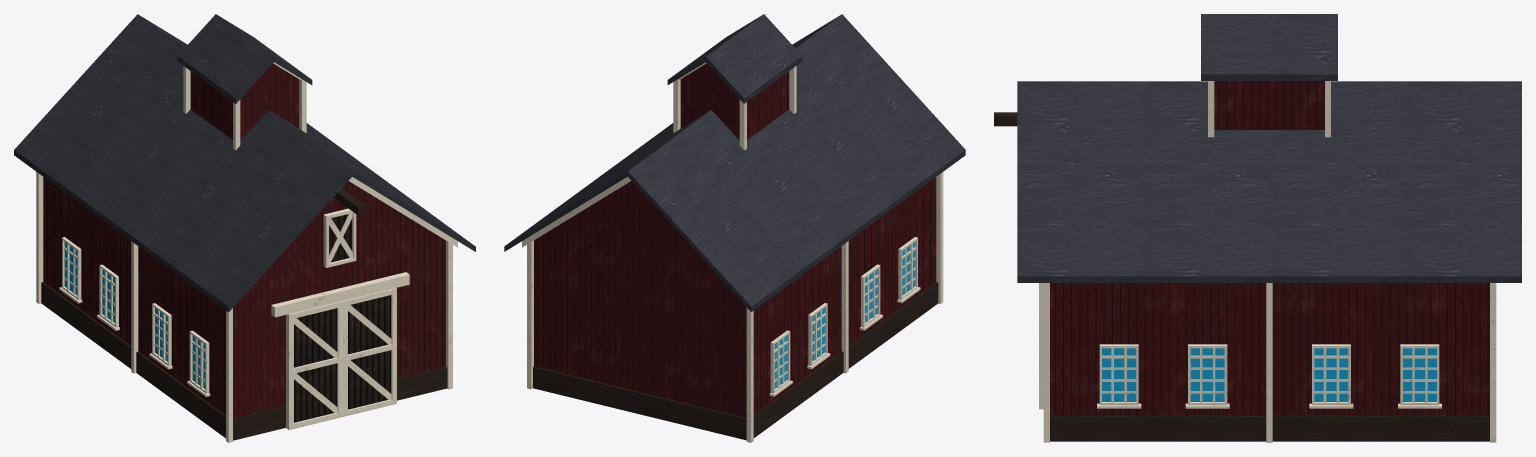
File: Barn_01.fbx
3 renders of one model, left to right at view 1: azimuth 30°, elevation 25°; view 2: azimuth 150°, elevation 25°; view 3: azimuth 270°, elevation 25°, orthographic. The views are drawn at different scales.
Parts seen in each view (by area): view 1: Plane.023, Plane.034, Plane.036, Plane.035, Plane.030, Plane.024, Plane.033; view 2: Plane.023, Plane.035, Plane.030, Plane.024; view 3: Plane.023, Plane.030, Plane.024, Plane.035, Plane.036.
Boxes of the visible parts, bbox=[...] form: Plane.023: bbox=[14, 14, 475, 440]; Plane.034: bbox=[286, 301, 342, 429]; Plane.036: bbox=[342, 288, 396, 416]; Plane.035: bbox=[36, 66, 452, 442]; Plane.030: bbox=[59, 237, 210, 396]; Plane.024: bbox=[97, 264, 172, 369]; Plane.033: bbox=[323, 208, 356, 267]; Plane.023: bbox=[504, 14, 965, 440]; Plane.035: bbox=[527, 66, 943, 442]; Plane.030: bbox=[769, 237, 920, 396]; Plane.024: bbox=[807, 264, 882, 369]; Plane.023: bbox=[1017, 14, 1521, 441]; Plane.030: bbox=[1097, 344, 1441, 408]; Plane.024: bbox=[1185, 344, 1353, 408]; Plane.035: bbox=[1043, 81, 1496, 442]; Plane.036: bbox=[1039, 283, 1043, 409].
Size of the model in its own units: 1284 by 1538 by 2019.
